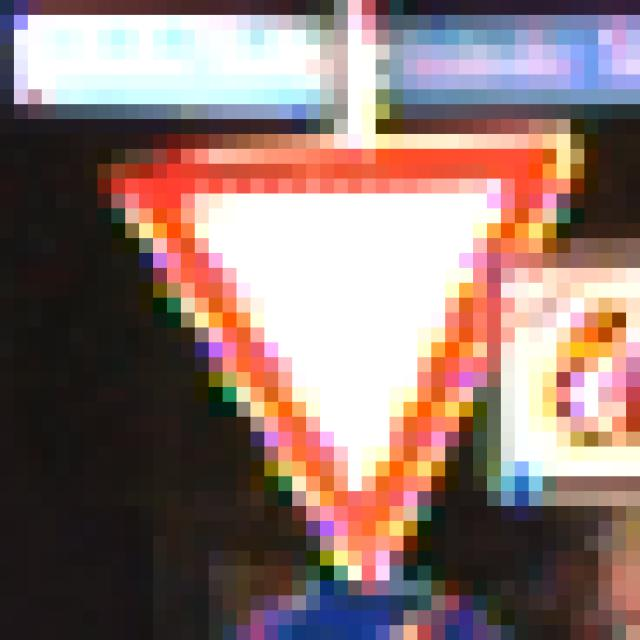Give Way: (85, 90, 572, 567)
